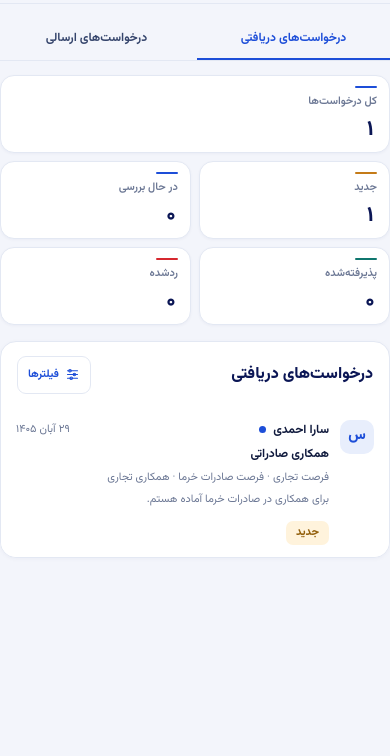
Scenario: inquiry dashboard › shows responsive filters, paginated rows, and the authorized detail
Check: the button "فرصت صادرات خرما" is shown, box [1, 408, 389, 557]
Click the button "فیلترها". click: (54, 375)
box: [17, 356, 91, 394]
(page scrolled)
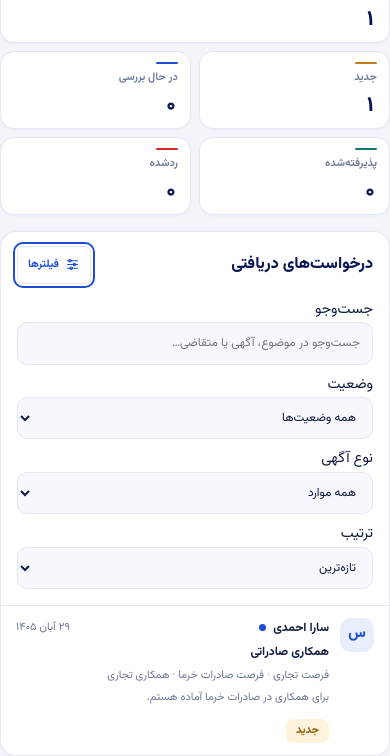
Check: the button "فیلترها" is expanded, box [17, 246, 91, 284]
Click the button "سارا احمدی". click: (195, 680)
box: [1, 606, 389, 755]
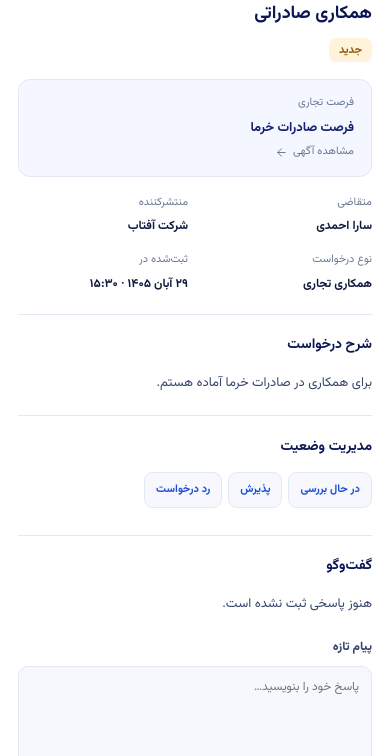
Check: the heading "شرح درخواست" is shown, box [287, 334, 372, 356]
